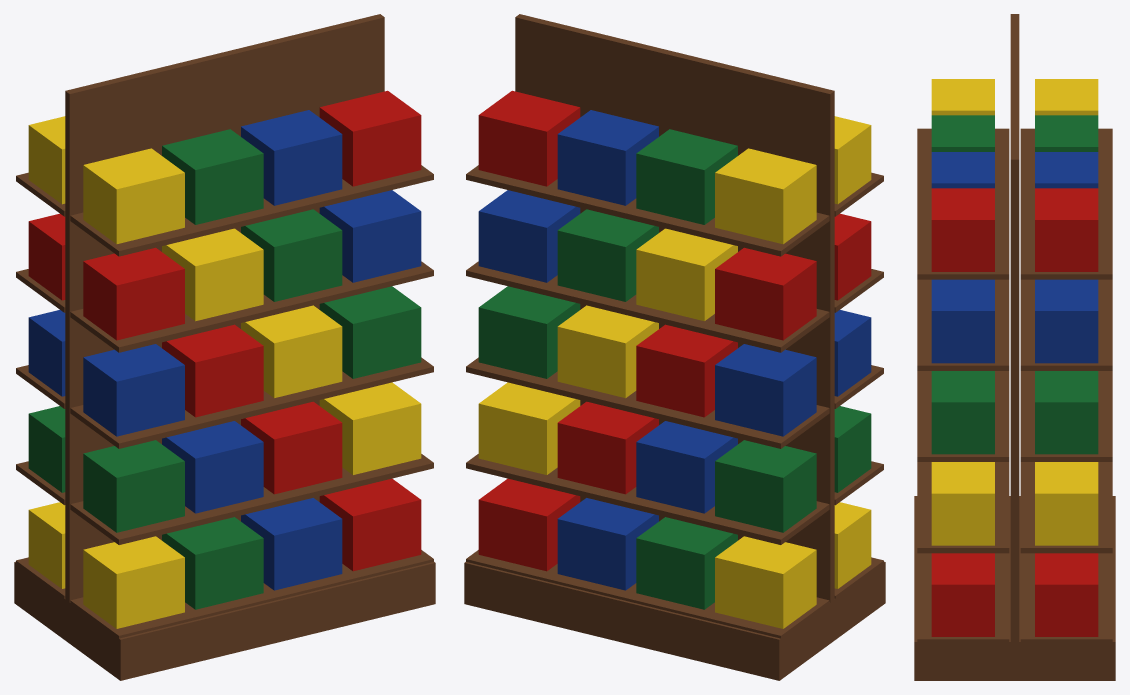
The model's file is airport.retail.gondola_tall.glb.
The picture shows the model from 3 angles, left to right: view 1: azimuth 30°, elevation 25°; view 2: azimuth 150°, elevation 25°; view 3: azimuth 270°, elevation 25°; orthographic projection. The views are drawn at different scales.
Visible parts, largest first — view 1: main__hardwood, main__plastic_yellow, main__plastic_red, main__plastic_blue, main__plastic_green; view 2: main__hardwood, main__plastic_yellow, main__plastic_red, main__plastic_blue, main__plastic_green; view 3: main__hardwood, main__plastic_red, main__plastic_blue, main__plastic_green, main__plastic_yellow.
Part boxes in pixels (left/top/right/bottom): main__hardwood: left=14, top=14, right=435, bottom=680; main__plastic_yellow: left=28, top=116, right=421, bottom=628; main__plastic_red: left=28, top=90, right=421, bottom=571; main__plastic_blue: left=28, top=110, right=421, bottom=590; main__plastic_green: left=28, top=129, right=421, bottom=609; main__hardwood: left=464, top=14, right=885, bottom=680; main__plastic_yellow: left=478, top=116, right=871, bottom=628; main__plastic_red: left=478, top=90, right=871, bottom=571; main__plastic_blue: left=478, top=110, right=871, bottom=590; main__plastic_green: left=478, top=129, right=871, bottom=609; main__hardwood: left=914, top=14, right=1115, bottom=680; main__plastic_red: left=931, top=188, right=1098, bottom=636; main__plastic_blue: left=931, top=152, right=1098, bottom=363; main__plastic_green: left=931, top=115, right=1098, bottom=454; main__plastic_yellow: left=931, top=79, right=1098, bottom=545.
Size of the model in its own units: 1.2 by 2 by 0.7.
